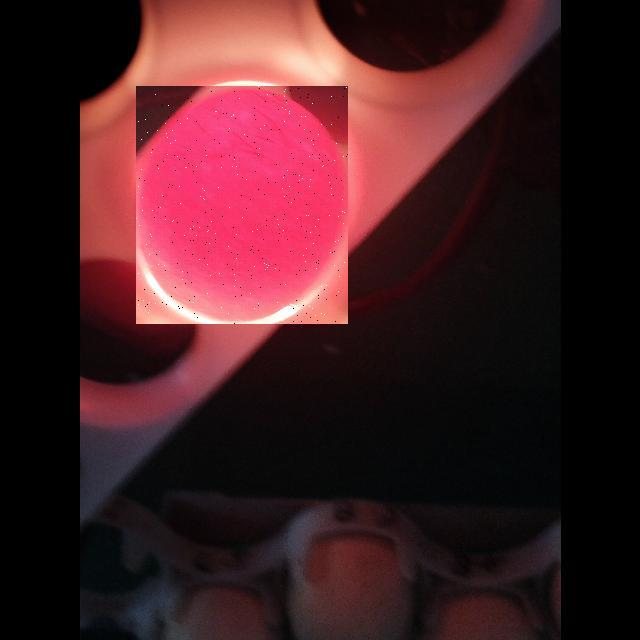Infertile: (136, 86, 348, 324)
